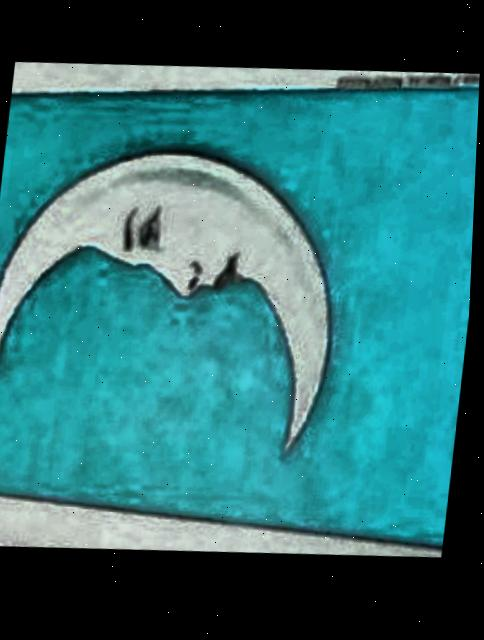La Luna: (0, 92, 480, 553)
